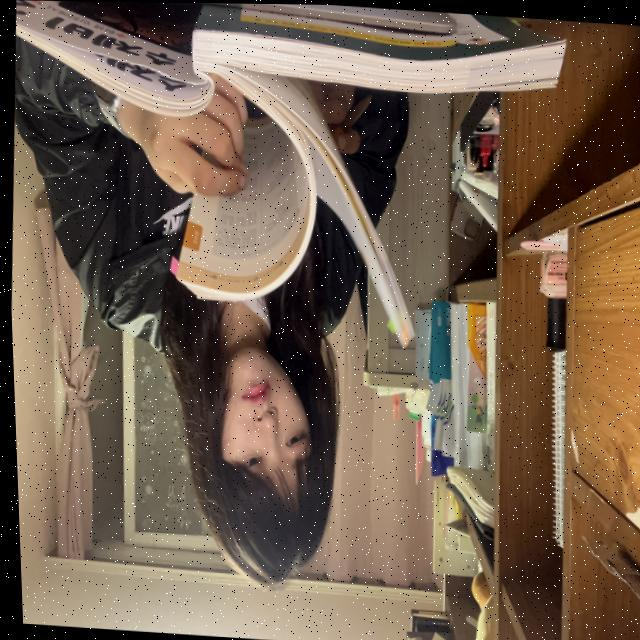studying-person: (0, 0, 585, 622)
